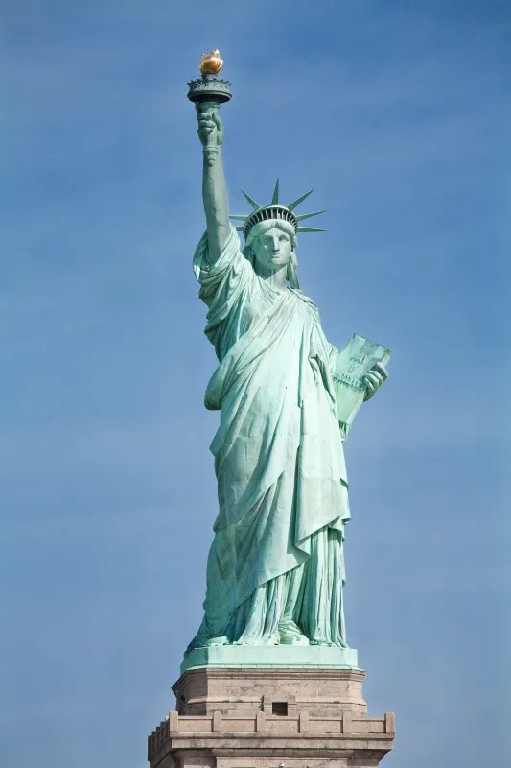SL: (148, 47, 396, 768)
